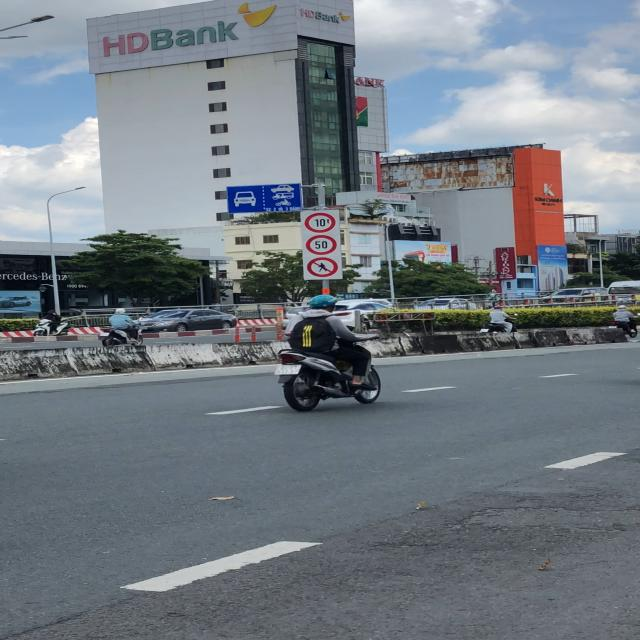Bien bao cam nguoi di bo: (305, 255, 341, 277)
Bien bao toc do toi da cho phep: (304, 234, 338, 255)
